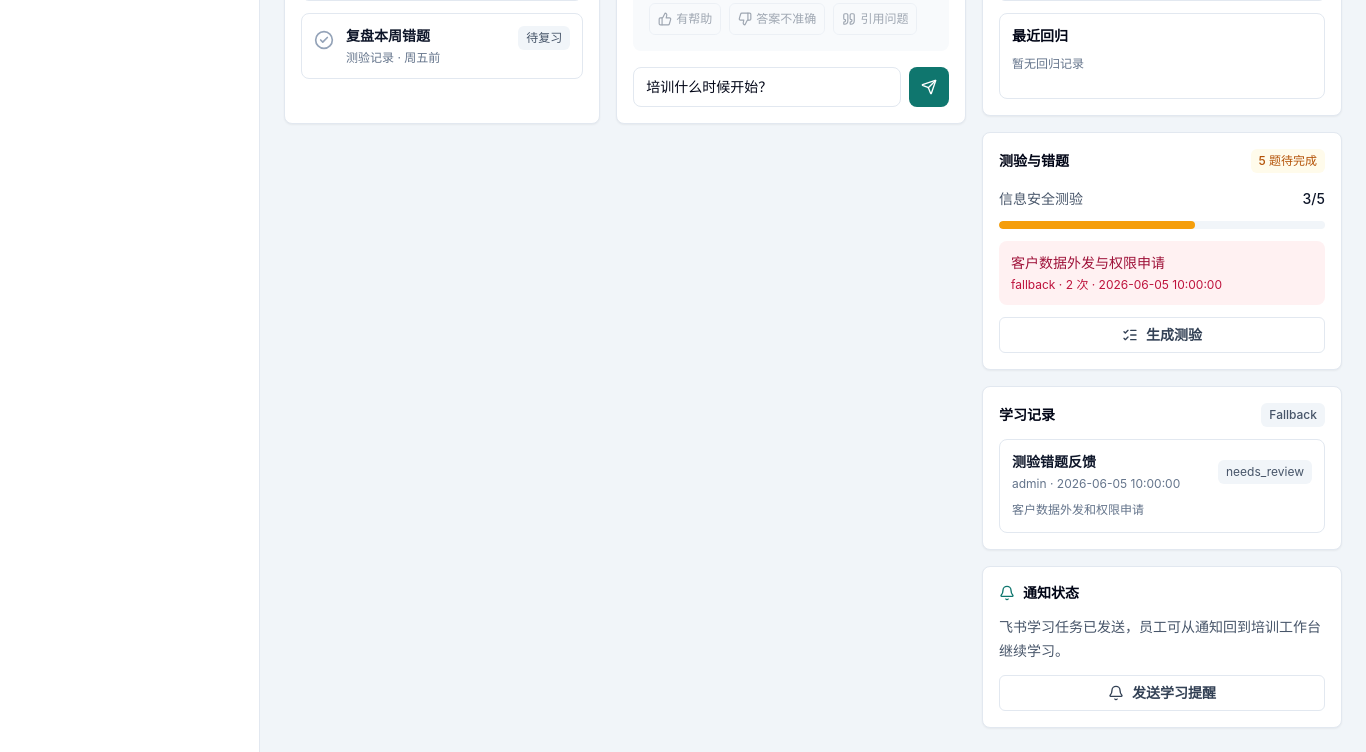
Training home page › runs a Feishu training reminder through the Agent tool loop
(page scrolled)
Click the button "发送学习提醒": [1162, 693] box [999,675,1325,711]
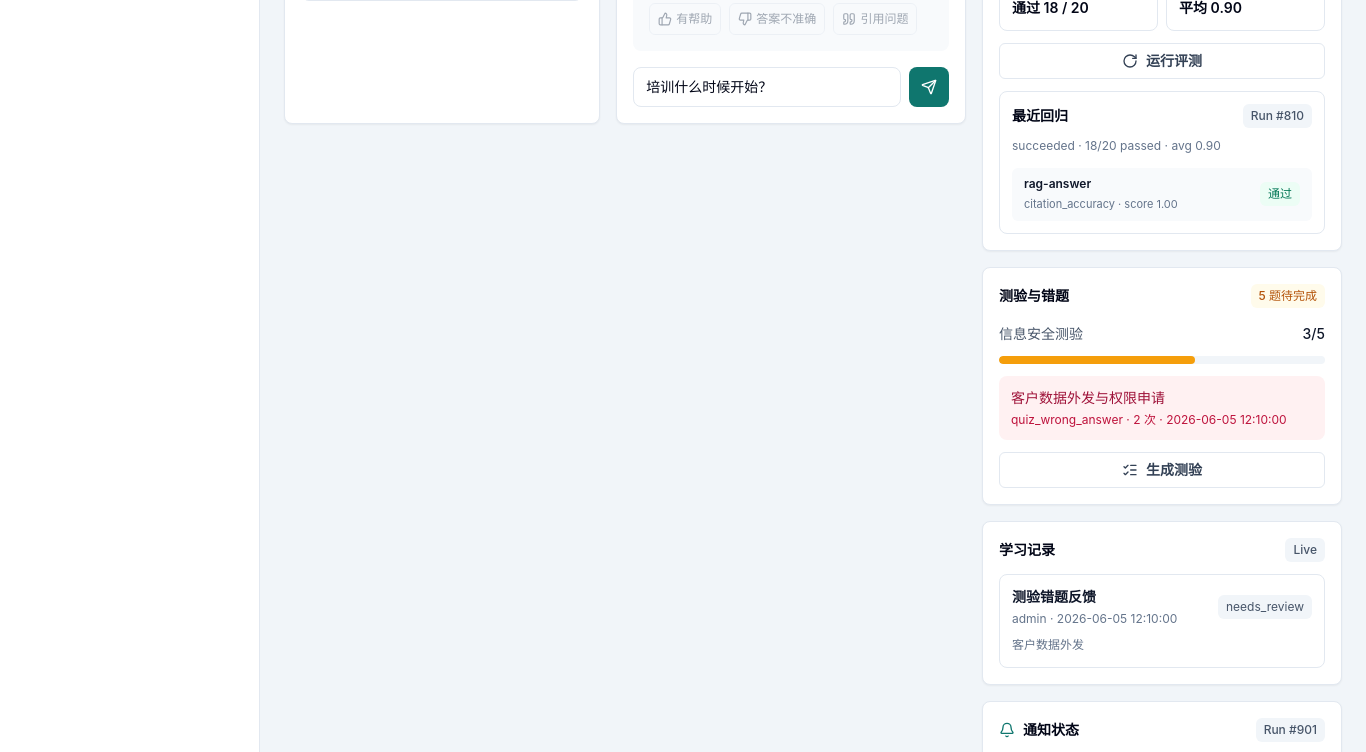
Expected: the text "Run #901" is shown, [1256,718,1325,742]
